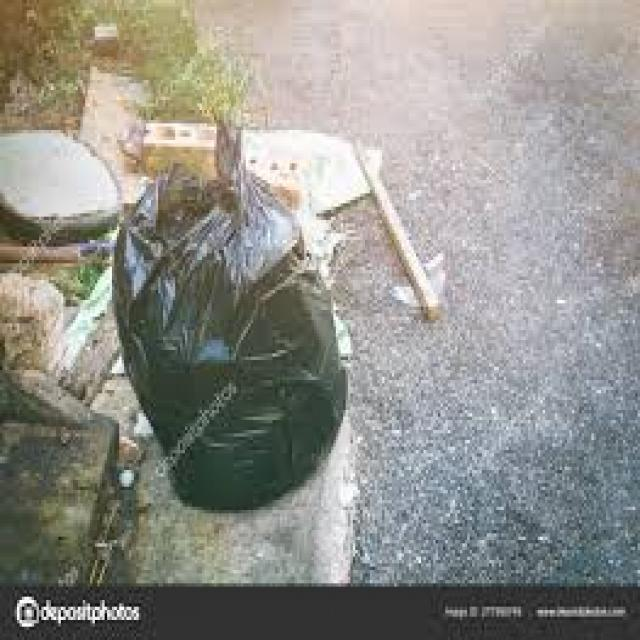garbage: (98, 160, 357, 534)
